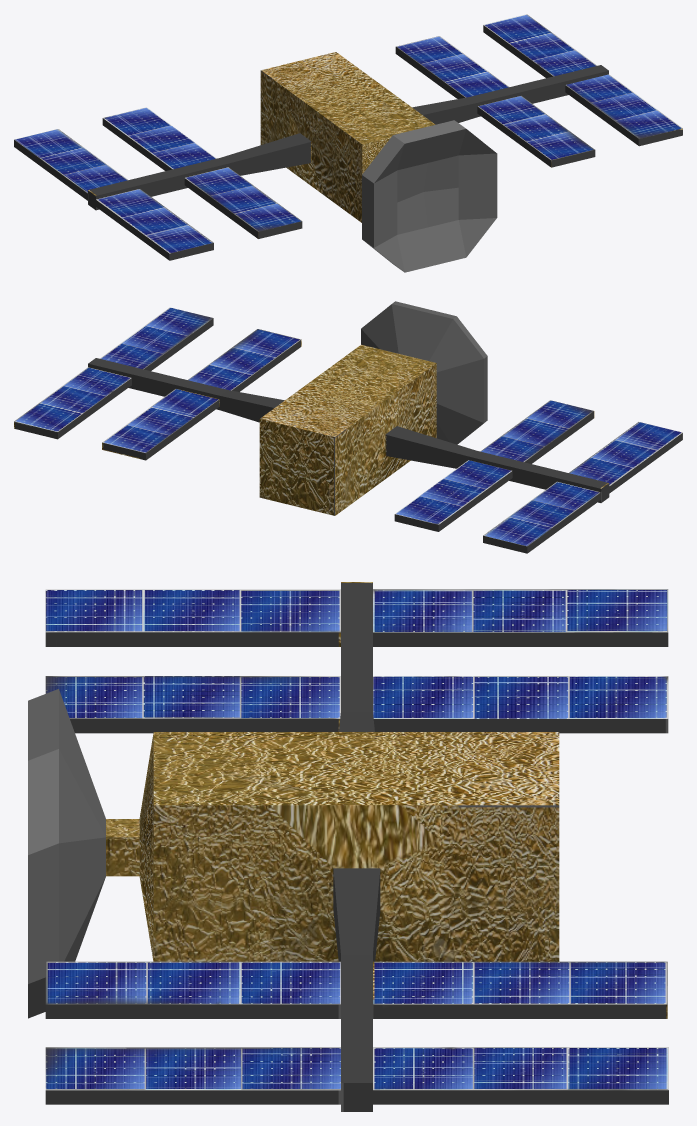
Rendered from satelite.fbx.
The picture shows the model from 3 angles, top to bottom: view 1: azimuth 30°, elevation 25°; view 2: azimuth 150°, elevation 25°; view 3: azimuth 270°, elevation 25°; orthographic projection. The views are drawn at different scales.
Parts seen in each view (by area): view 1: Satelite; view 2: Satelite; view 3: Satelite.
Part boxes in pixels (x1,y1,x2,y2): Satelite: (14,14,682,272); Satelite: (14,301,682,553); Satelite: (28,582,668,1111).
Size of the model in its own units: 201 by 49.63 by 109.
